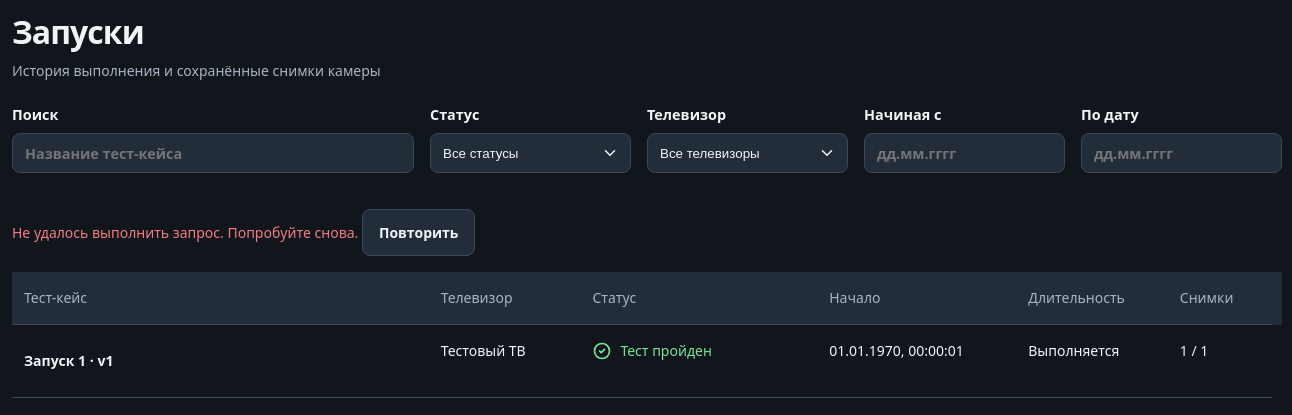
Test: page failure keeps rows and supports explicit retry without an automatic retry loop
This screenshot has width=1292, height=415.
Check: the message "Не удалось выполнить запрос. Попробуйте снова. Повторить" is shown, box [12,209,475,256]
Check: the button "Запуск 1 · v1" is shown, box [24,341,113,381]
Click the button "Повторить" at (419, 232), box [362,209,476,256]
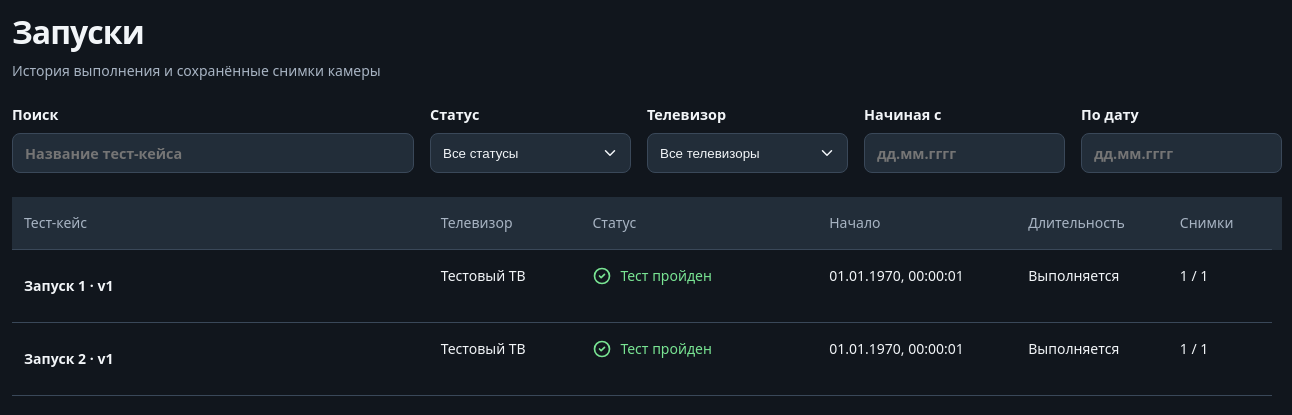
Check: the button "Запуск 1 · v1" is shown, box [24,266,113,306]
Check: the button "Запуск 2 · v1" is shown, box [24,339,113,379]
